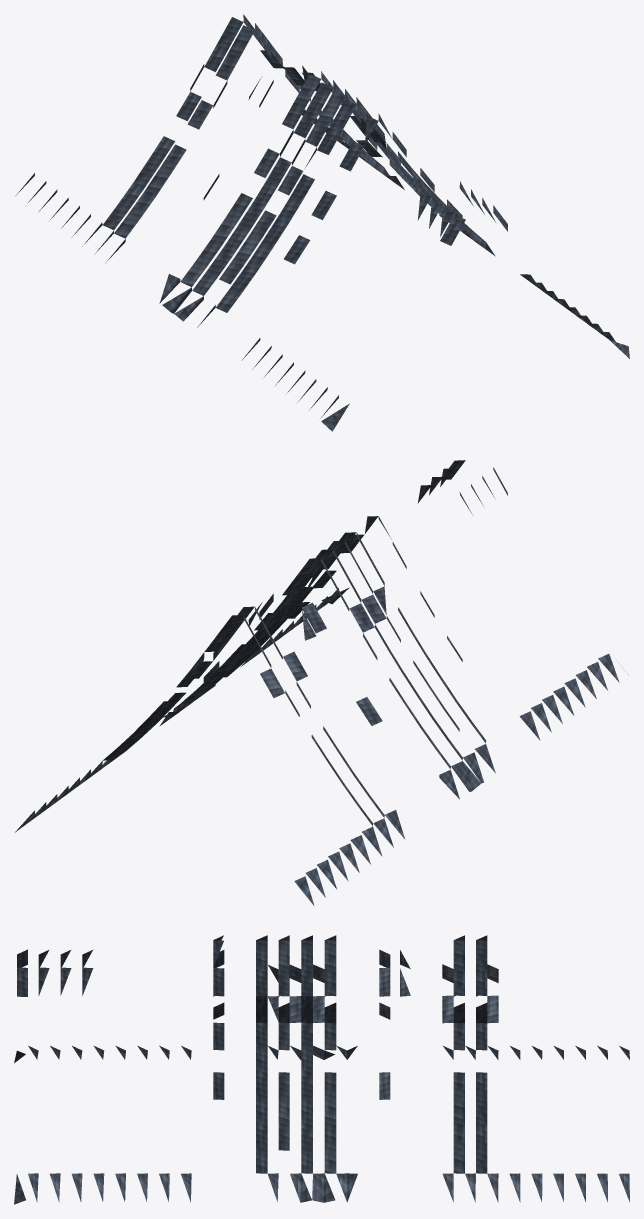
File: Roof_Slate_6x14_LOD2.gltf
The picture shows the model from 3 angles, top to bottom: view 1: azimuth 30°, elevation 25°; view 2: azimuth 150°, elevation 25°; view 3: azimuth 270°, elevation 25°; orthographic projection. The views are drawn at different scales.
Parts seen in each view (by area): view 1: Roof_Slate_6x14_LOD2; view 2: Roof_Slate_6x14_LOD2; view 3: Roof_Slate_6x14_LOD2.
Part boxes in pixels (box(x1,y1,x2,y2)): Roof_Slate_6x14_LOD2: box(15, 14, 629, 431); Roof_Slate_6x14_LOD2: box(15, 460, 628, 905); Roof_Slate_6x14_LOD2: box(14, 935, 629, 1204).
Size of the model in its own units: 8.25 by 5.17 by 14.72.
1 material, 1 textured.
